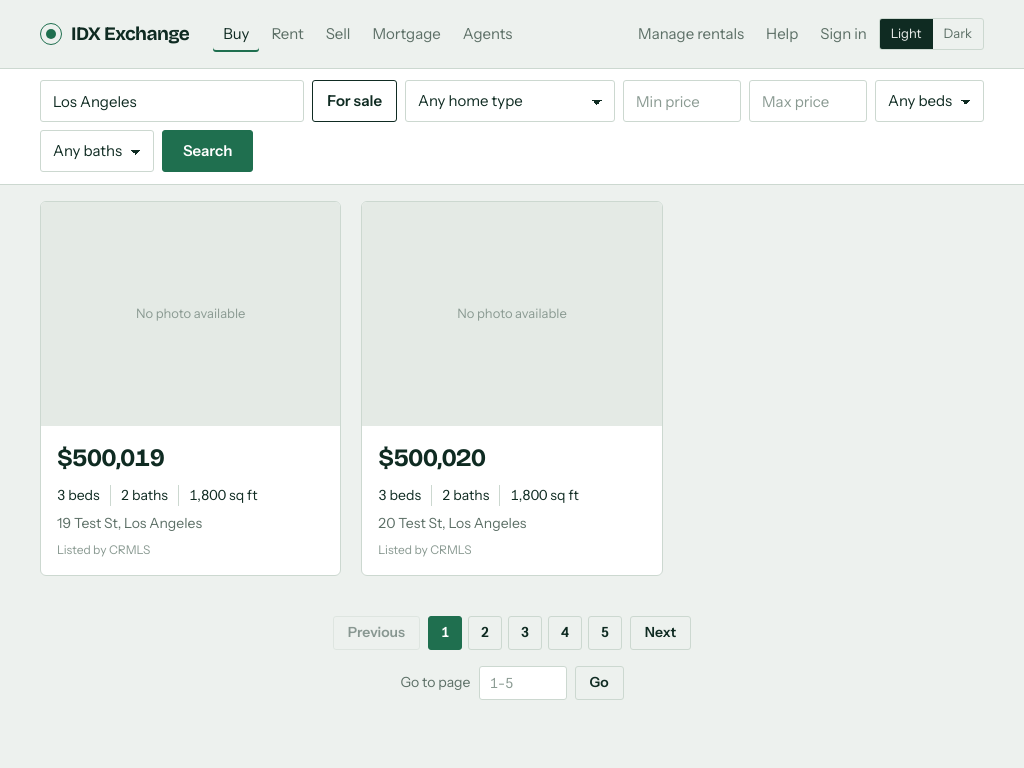
Test: SearchPage pagination › an out-of-range page shows an error and makes no request
The width and height of the screenshot is (1024, 768).
(page scrolled)
Step 1. Type "6" into the number field labelled "Go to page" → (522, 683), box left=478, top=666, right=566, bottom=700
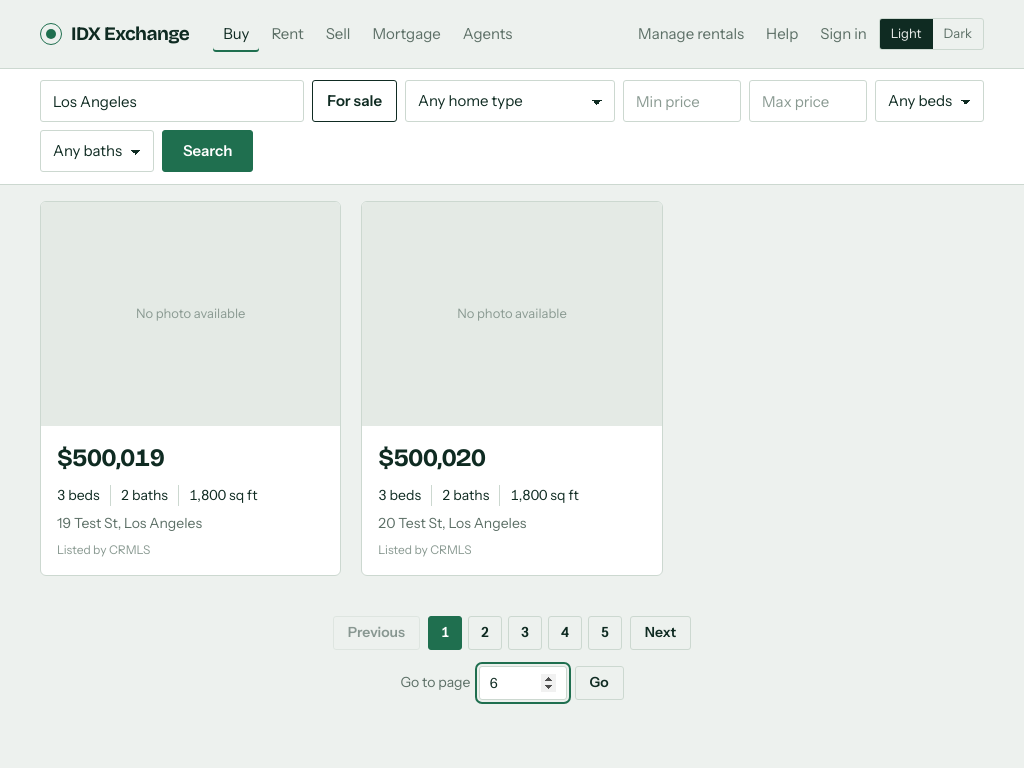
Step 2. Click the button "Go" → click(599, 683), box left=574, top=666, right=624, bottom=700
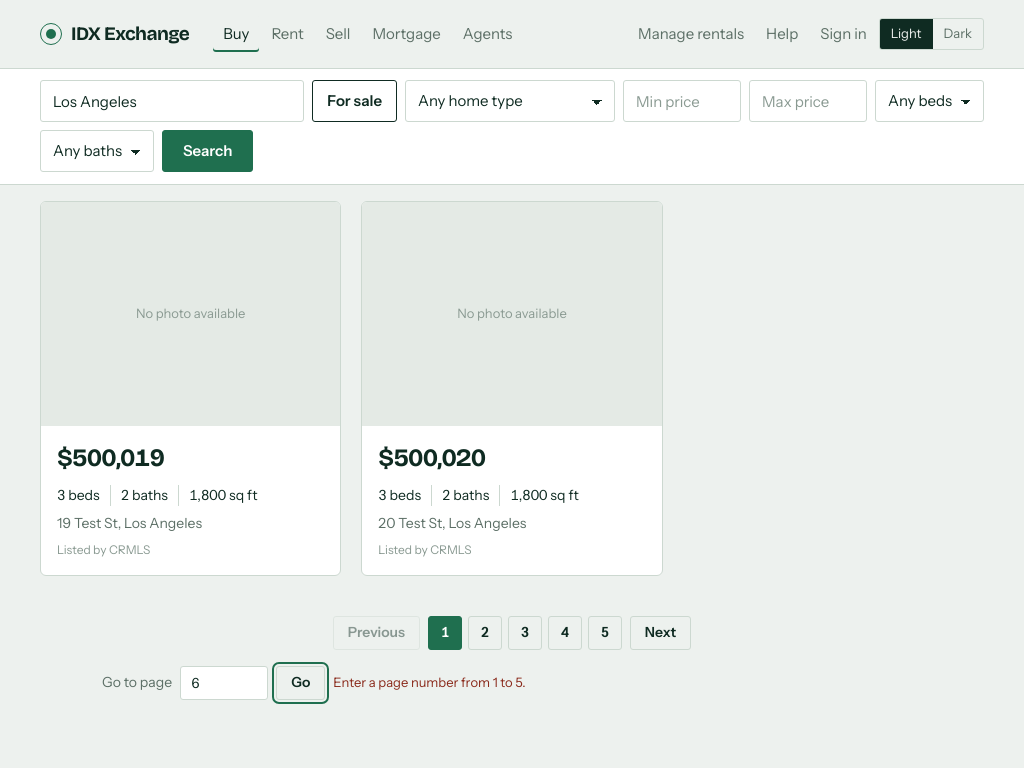
Result: the message reads "Enter a page number from 1 to 5." at left=333, top=674, right=526, bottom=690
